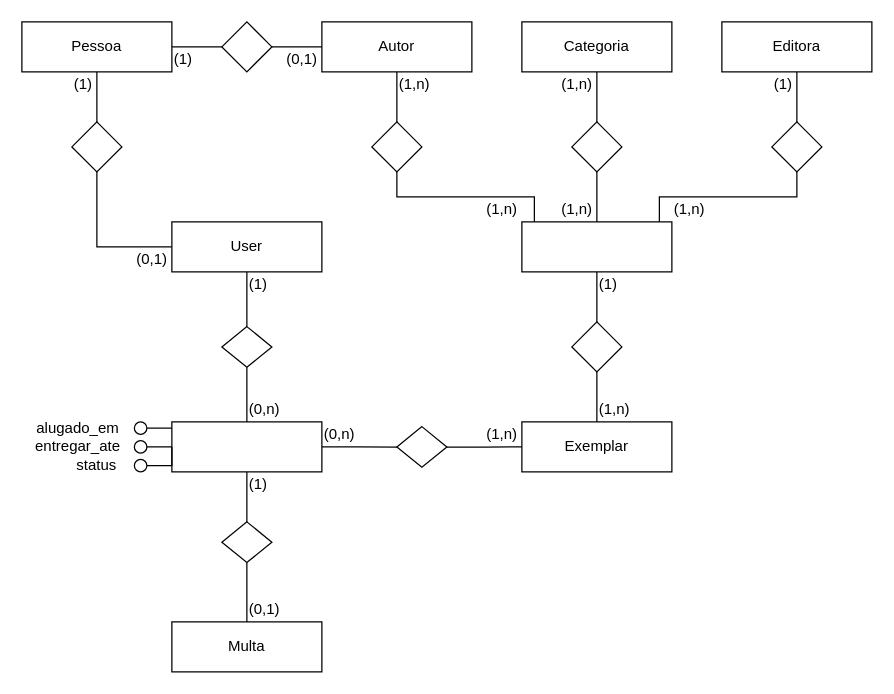
The diagram is 894 pixels wide and 694 high, and some of its shapes have lost their labels. The shapes that lost their labels are listed below. From the top down, each one's centre as x and y in pixels, then its label:
pixel 596 246: Livro
pixel 246 446: Emprestimo
